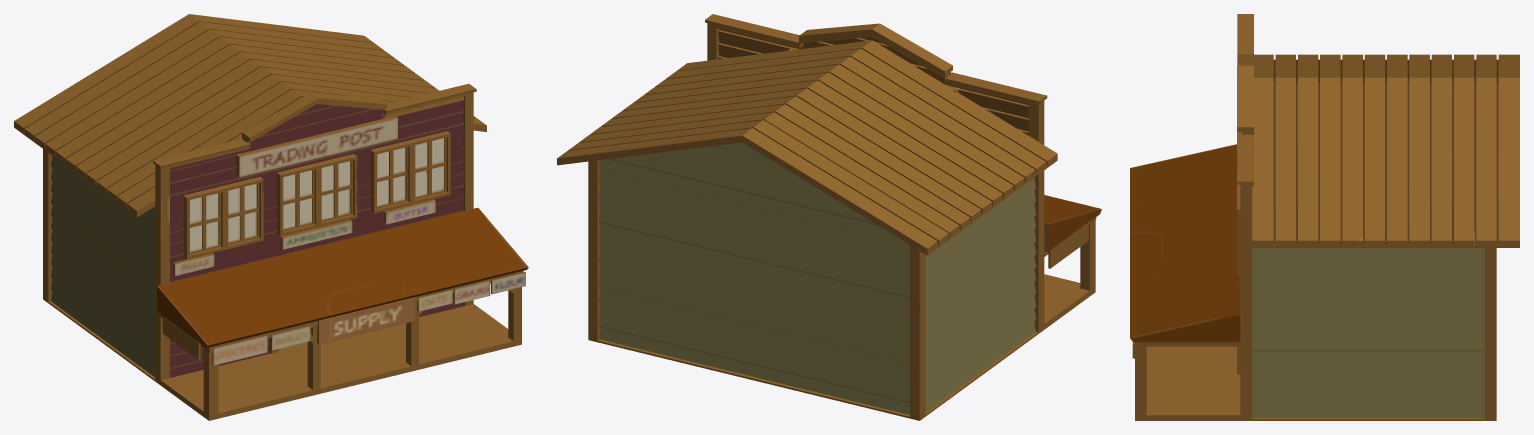
Rendered from grocery store_with texture.fbx.
3 views of the same model, side by side, from view 1: azimuth 30°, elevation 25°; view 2: azimuth 150°, elevation 25°; view 3: azimuth 270°, elevation 25° (orthographic). The views are drawn at different scales.
Visible parts, largest first — view 1: glass.002; view 2: glass.002; view 3: glass.002.
Part boxes in pixels (x1,y1,x2,y2): glass.002: (14, 14, 528, 420); glass.002: (557, 14, 1101, 420); glass.002: (1130, 14, 1519, 420).
Size of the model in its own units: 9881 by 6748 by 8760.
